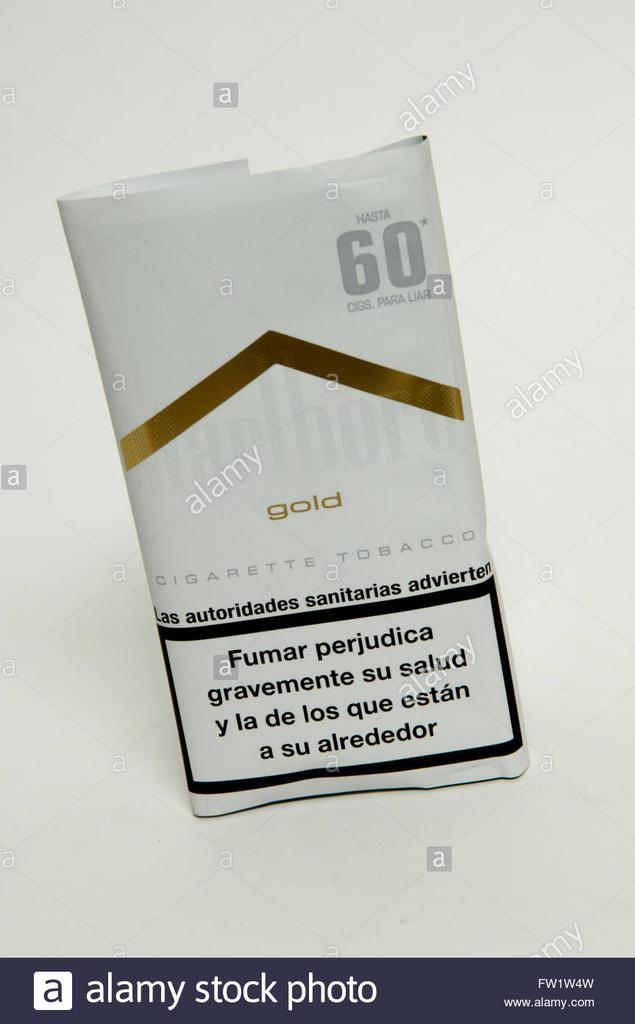marlboro_gold: (121, 165, 461, 756)
